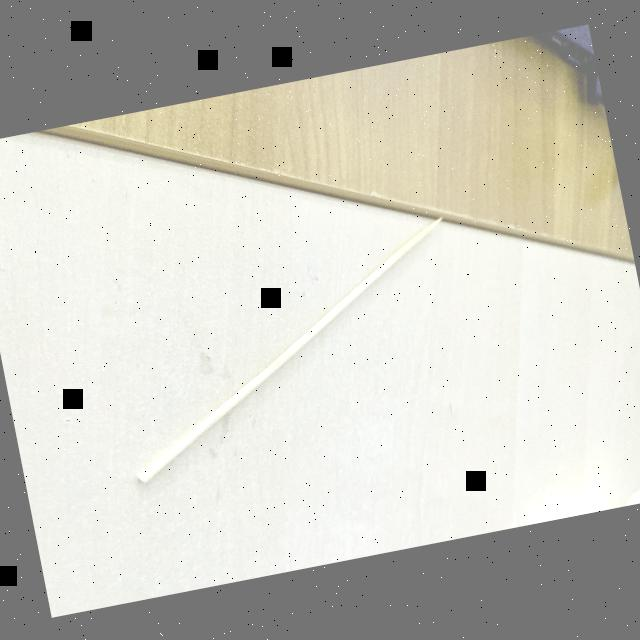stick: (65, 172, 504, 510)
